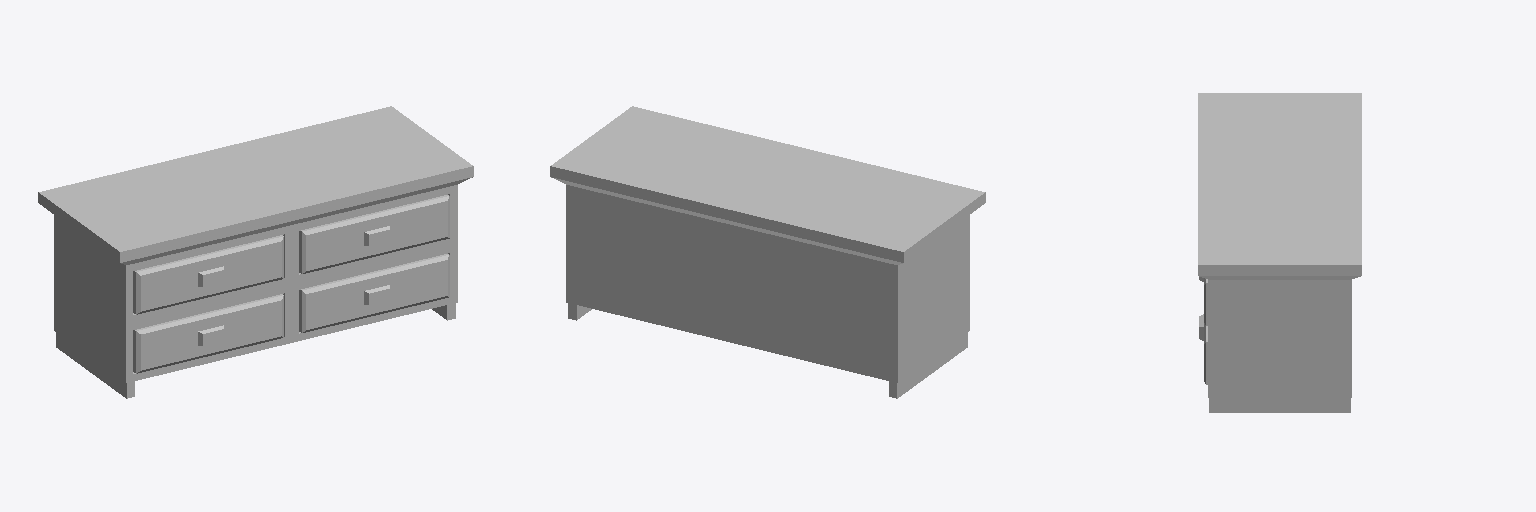
File: Cabinet_Long.obj
3 renders of one model, left to right at view 1: azimuth 30°, elevation 25°; view 2: azimuth 150°, elevation 25°; view 3: azimuth 270°, elevation 25°, orthographic.
Parts seen in each view (by area): view 1: Cabinet_Long_Cube.011; view 2: Cabinet_Long_Cube.011; view 3: Cabinet_Long_Cube.011.
Boxes of the visible parts, <box> form: Cabinet_Long_Cube.011: <box>38,106,473,398</box>; Cabinet_Long_Cube.011: <box>550,106,985,398</box>; Cabinet_Long_Cube.011: <box>1198,93,1361,412</box>.
Bounding box in the file's own units: 6.02 × 2.5 × 2.42.